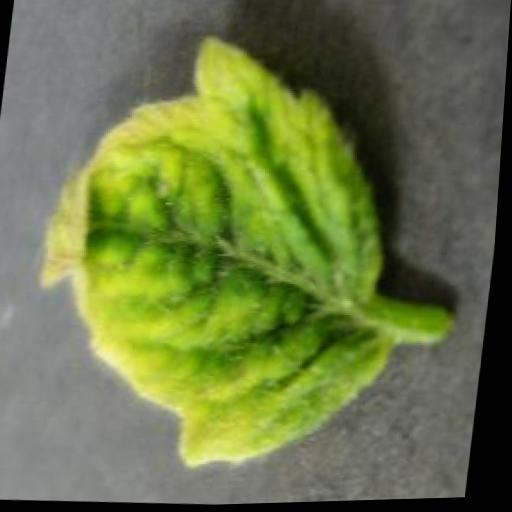Yellow Leaf Curl Virus: (22, 24, 432, 483)
